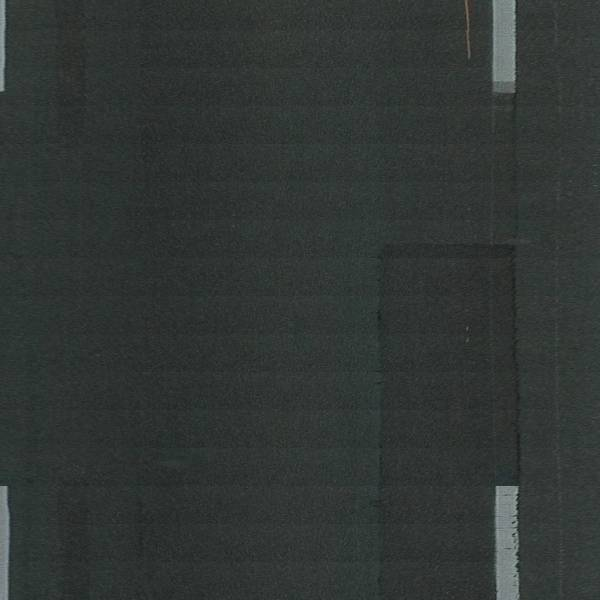road_damage: (373, 238, 527, 499)
